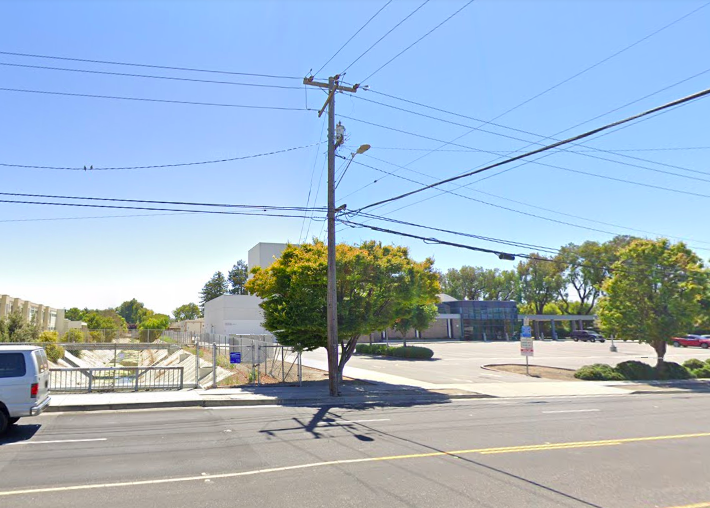tree: (242, 237, 443, 387), (592, 236, 710, 372)
utility_pole: (295, 60, 368, 155)
